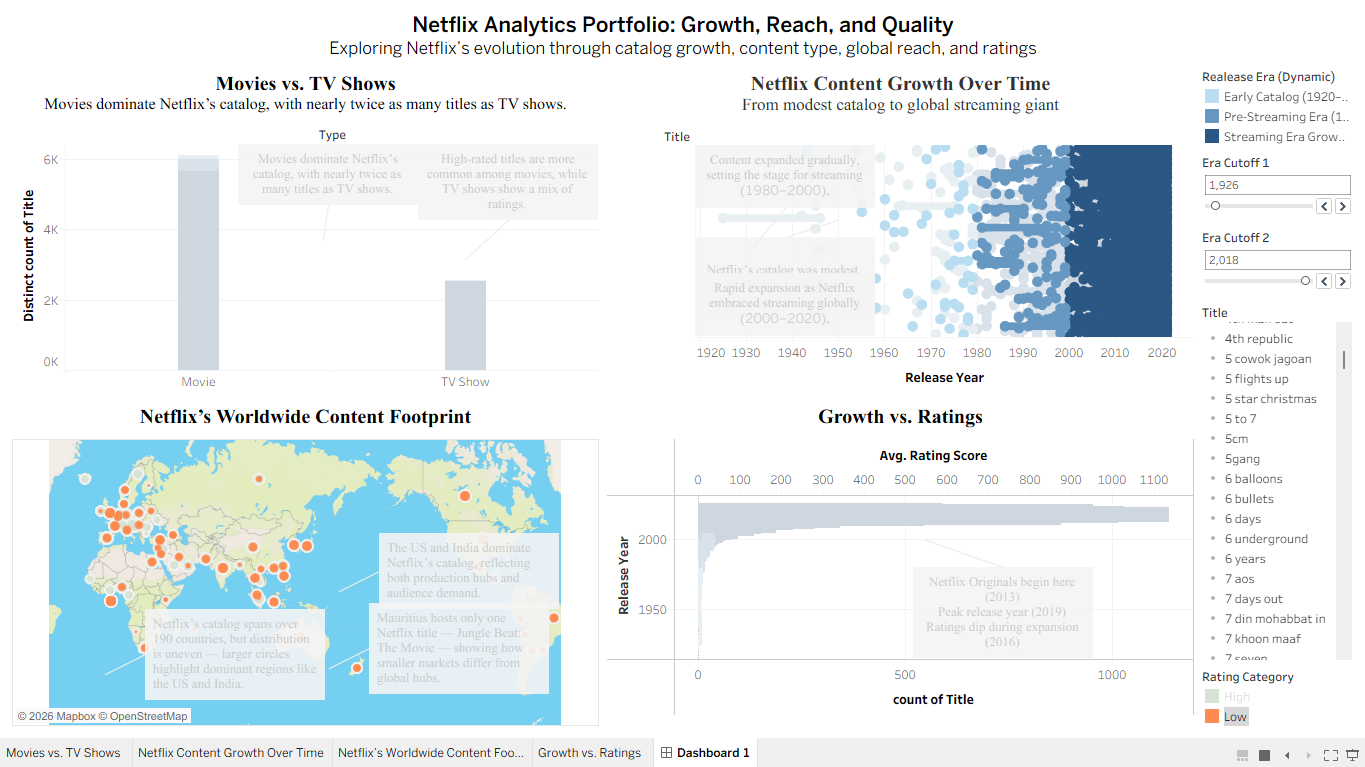

What the dashboard file says about the page in this screenshot:
{"tool":"tableau","page":{"name":"Dashboard 1","canvas":[1000,1000],"units":"permille","ordinal":0},"visuals":[{"type":"title","box":[6.8,13.7,986.5,95.9]},{"type":"worksheet","title":"Movies vs. TV Shows","mark":"Automatic","rows":["title"],"cols":["type"],"box":[6.8,109.6,425.5,438.3]},{"type":"worksheet","title":"Netflix Content Growth Over Time","mark":"Line","rows":["title"],"cols":["release_year"],"box":[432.3,109.6,425.6,438.3]},{"type":"legend","title":"Movies vs. TV Shows","param":"[federated.1kpmpik1vxgak414ykvh41ed16ku].[none:Calculation_0908249284947968:nk]","box":[857.9,109.6,135.4,147.3]},{"type":"parameter","param":"[Parameters].[Parameter 1]","box":[857.9,256.9,135.4,128.4]},{"type":"parameter","param":"[Parameters].[Parameter 2]","box":[857.9,385.3,135.4,128.4]},{"type":"legend","title":"Netflix’s Worldwide Content Footprint","param":"[federated.1kpmpik1vxgak414ykvh41ed16ku].[none:title:nk]","box":[857.9,513.7,135.4,359.6]},{"type":"worksheet","title":"Netflix’s Worldwide Content Footprint","mark":"Automatic","box":[6.8,547.9,425.4,438.4]},{"type":"worksheet","title":"Growth vs. Ratings","mark":"Line","rows":["release_year"],"cols":["title","Calculation_0592964103819265"],"box":[432.2,547.9,425.7,438.4]},{"type":"legend","title":"Netflix’s Worldwide Content Footprint","param":"[federated.1kpmpik1vxgak414ykvh41ed16ku].[none:Calculation_0592964116135938:nk]","box":[857.9,873.3,135.4,113]}]}

Visuals, with their boxes on the dashboard's canvas, which has no fixed pixel size, in thousandths of its width and height (x1, y1, x2, y2). These are canvas units, not pixel positions in the 1365x767 screenshot, which may show the page scaled, cropped or inside an application window:
title: <box>7,14,993,110</box>
"Movies vs. TV Shows" worksheet: <box>7,110,432,548</box>
"Netflix Content Growth Over Time" worksheet (Line marks): <box>432,110,858,548</box>
"Movies vs. TV Shows" legend: <box>858,110,993,257</box>
parameter: <box>858,257,993,385</box>
parameter: <box>858,385,993,514</box>
"Netflix’s Worldwide Content Footprint" legend: <box>858,514,993,873</box>
"Netflix’s Worldwide Content Footprint" worksheet: <box>7,548,432,986</box>
"Growth vs. Ratings" worksheet (Line marks): <box>432,548,858,986</box>
"Netflix’s Worldwide Content Footprint" legend: <box>858,873,993,986</box>
